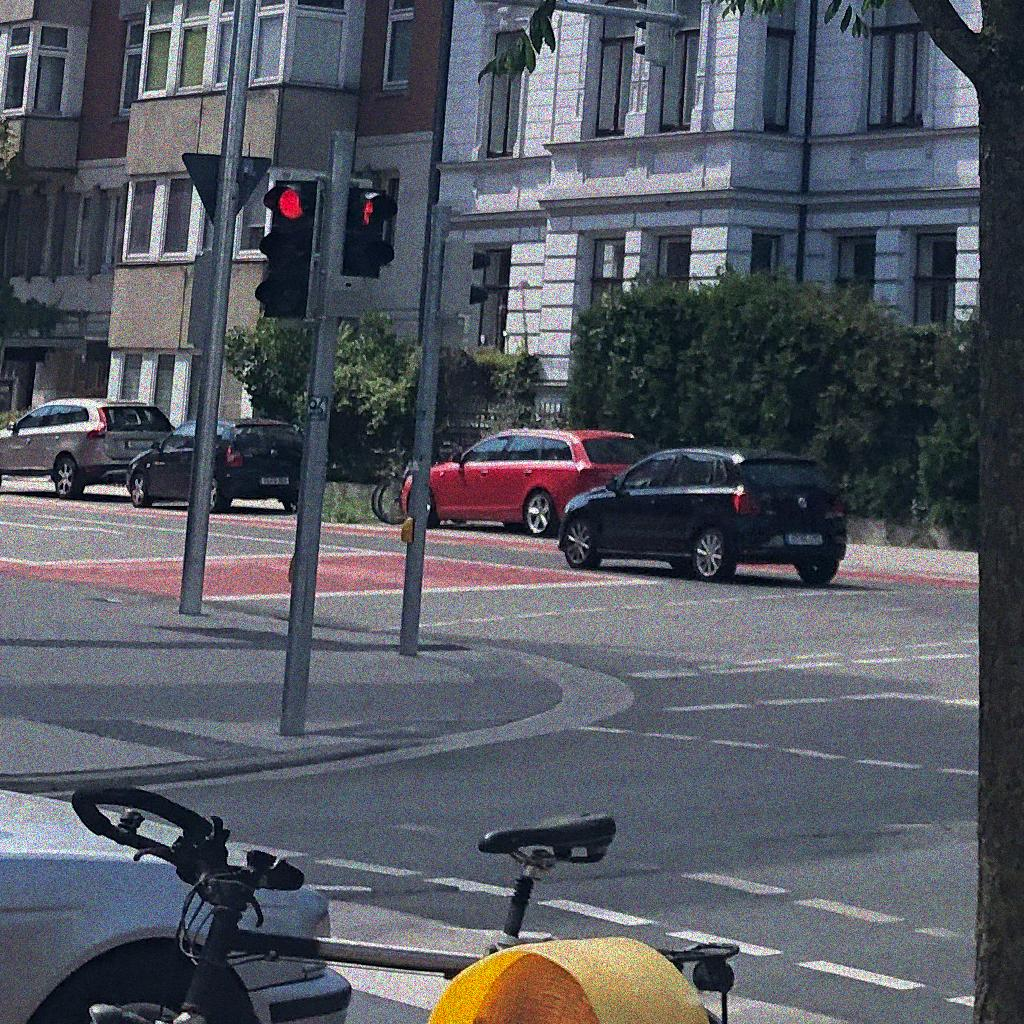tree: (477, 1, 1023, 1023)
